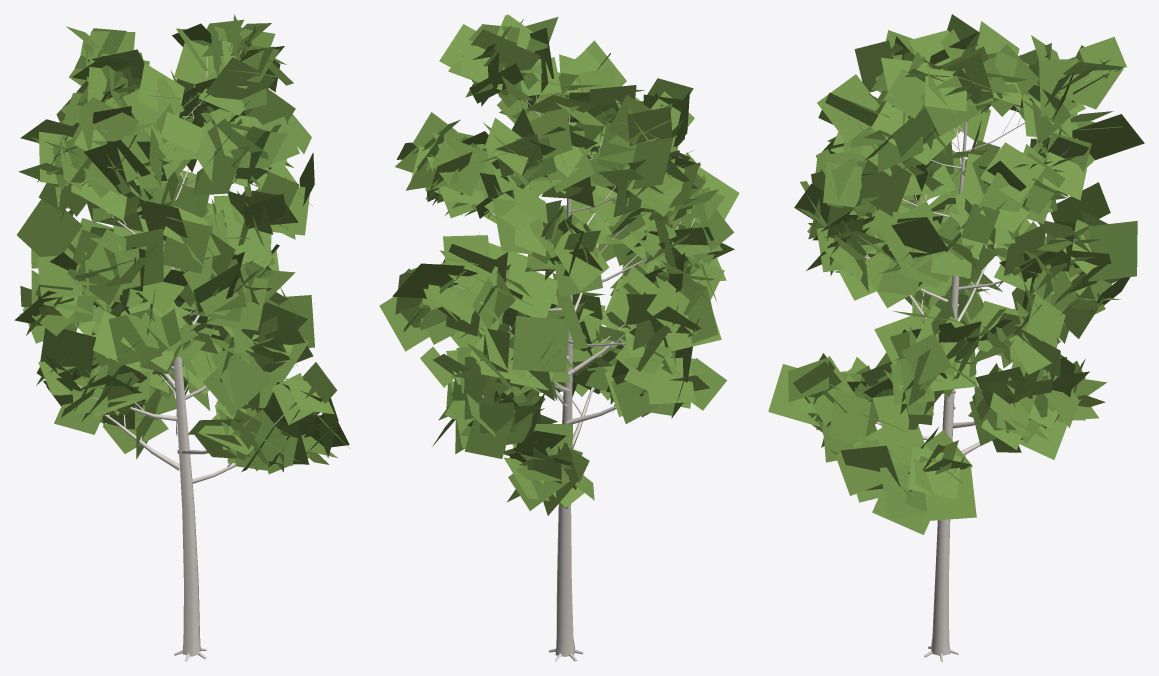
File: birch-3-lod1.glb
3 renders of one model, left to right at view 1: azimuth 30°, elevation 25°; view 2: azimuth 150°, elevation 25°; view 3: azimuth 270°, elevation 25°, orthographic. The views are drawn at different scales.
Visible parts, largest first — view 1: birch-3-lod1-foliage, birch-3-lod1-bark; view 2: birch-3-lod1-foliage, birch-3-lod1-bark; view 3: birch-3-lod1-foliage, birch-3-lod1-bark.
Boxes of the visible parts, <box> form: birch-3-lod1-foliage: <box>14,14,349,474</box>; birch-3-lod1-bark: <box>57,31,319,661</box>; birch-3-lod1-foliage: <box>379,14,739,515</box>; birch-3-lod1-bark: <box>451,95,695,661</box>; birch-3-lod1-foliage: <box>768,14,1144,534</box>; birch-3-lod1-bark: <box>865,77,1090,661</box>.
Bounding box in the file's own units: 16.82 × 32.13 × 17.35.
